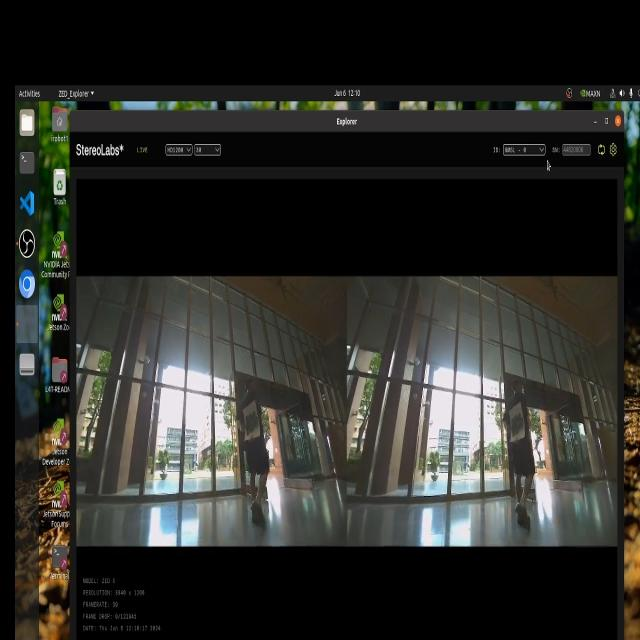green: (504, 416, 530, 449), (244, 405, 264, 438)
